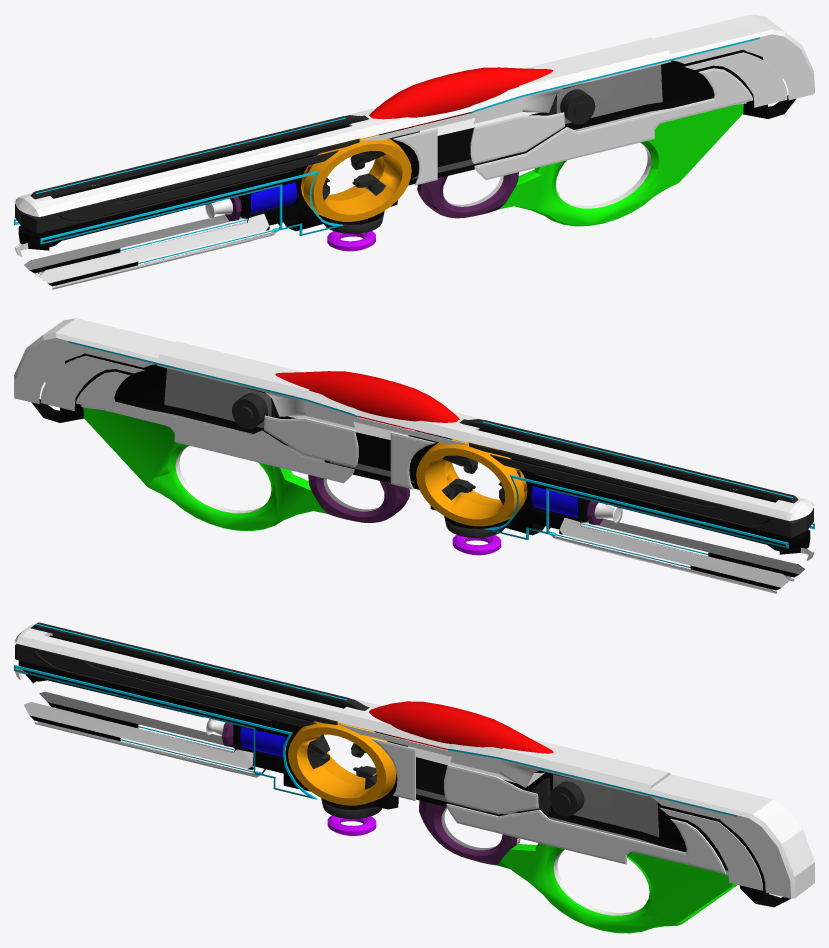
Rendered from Progeny MG V2.FBX.
The picture shows the model from 3 angles, top to bottom: view 1: azimuth 30°, elevation 25°; view 2: azimuth 150°, elevation 25°; view 3: azimuth 330°, elevation 25°; orthographic projection.
Parts seen in each view (by area): view 1: Body v1, Top Panels, Handle, Object005, Energy Epicenter, Object012, Sphere002, Object004, Top Rail, Side Panels v1, Object010, Object008 (+3 smaller); view 2: Body v1, Top Panels, Handle, Object002, Energy Epicenter, Object012, Sphere002, Object001, Top Rail, Side Panels v002, Object011, Object007 (+3 smaller); view 3: Body v1, Top Panels, Handle, Object005, Energy Epicenter, Object012, Sphere002, Top Rail, Object004, Side Panels v1, Object010, Object008 (+3 smaller).
Part boxes in pixels (box(x1,y1,x2,y2)): Body v1: box(14, 49, 795, 289); Top Panels: box(15, 14, 814, 216); Handle: box(417, 104, 743, 226); Object005: box(474, 68, 753, 179); Energy Epicenter: box(301, 135, 411, 221); Object012: box(15, 139, 359, 233); Sphere002: box(369, 67, 552, 131); Object004: box(470, 112, 564, 163); Top Rail: box(30, 115, 368, 199); Side Panels v1: box(684, 52, 787, 107); Object010: box(40, 171, 343, 244); Object008: box(393, 128, 437, 185); Body v1: box(31, 353, 814, 593); Top Panels: box(14, 318, 813, 520); Handle: box(83, 407, 409, 530); Object002: box(76, 371, 354, 483); Energy Epicenter: box(416, 439, 527, 526); Object012: box(469, 442, 813, 537); Sphere002: box(275, 371, 459, 435); Object001: box(264, 415, 358, 467); Top Rail: box(459, 419, 798, 503); Side Panels v002: box(41, 355, 144, 410); Object011: box(485, 475, 788, 548); Object007: box(390, 432, 435, 489); Body v1: box(15, 635, 790, 907); Top Panels: box(15, 623, 814, 898); Handle: box(419, 800, 737, 933); Object005: box(446, 803, 725, 873); Energy Epicenter: box(288, 719, 396, 805); Object012: box(15, 634, 337, 726); Sphere002: box(369, 701, 553, 753); Top Rail: box(30, 622, 369, 710); Object004: box(444, 765, 538, 814); Side Panels v1: box(659, 807, 762, 890); Object010: box(14, 665, 317, 799); Object008: box(371, 738, 415, 800).
Bounding box in the file's own units: 77.83 × 17.21 × 5.4.
